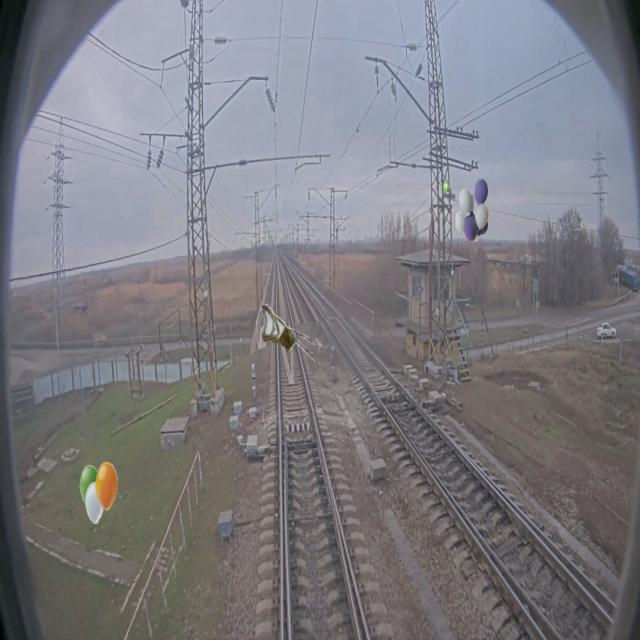balloon: (79, 462, 118, 526), (455, 178, 489, 242)
floating object: (261, 304, 321, 368)
